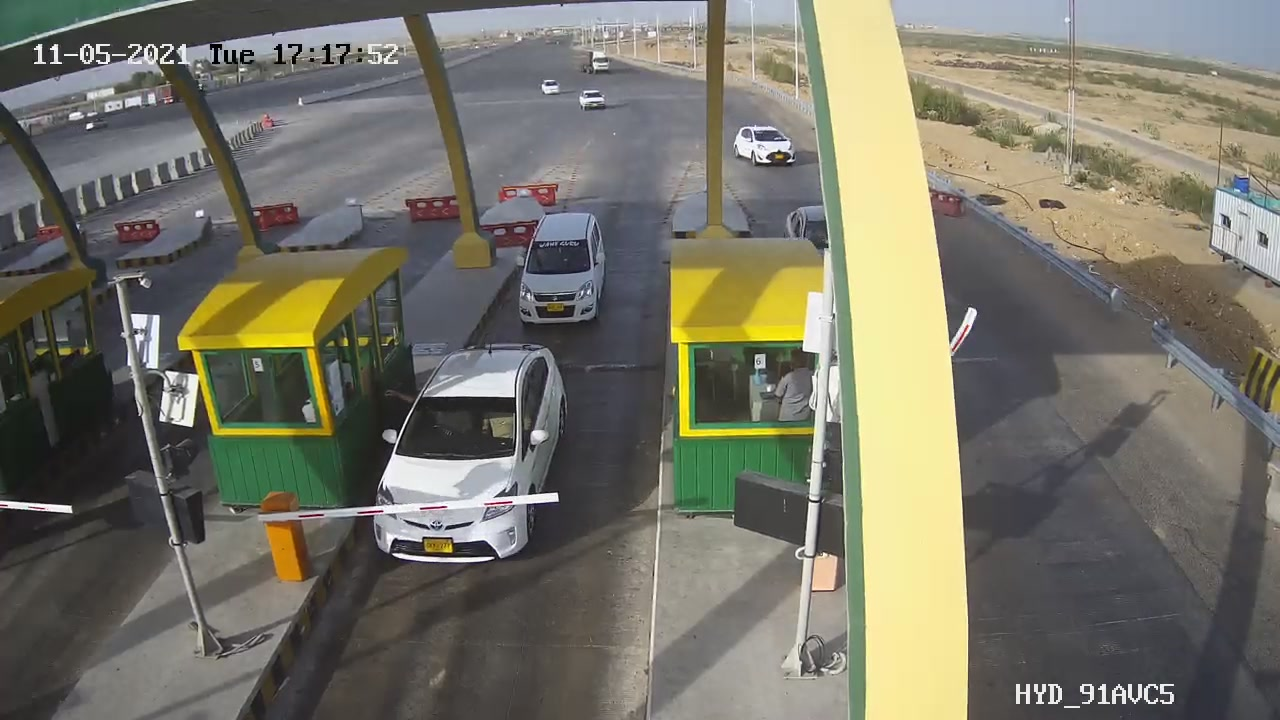F1: (360, 331, 585, 577), (498, 200, 624, 338)
